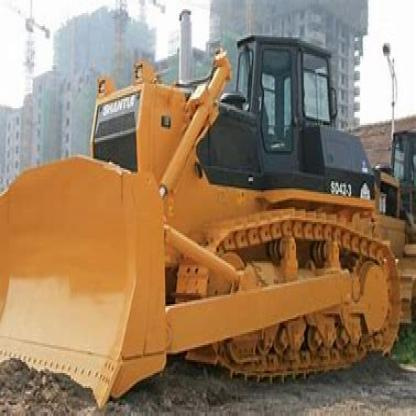bull_dozer/loader/grader: (1, 19, 415, 406)
